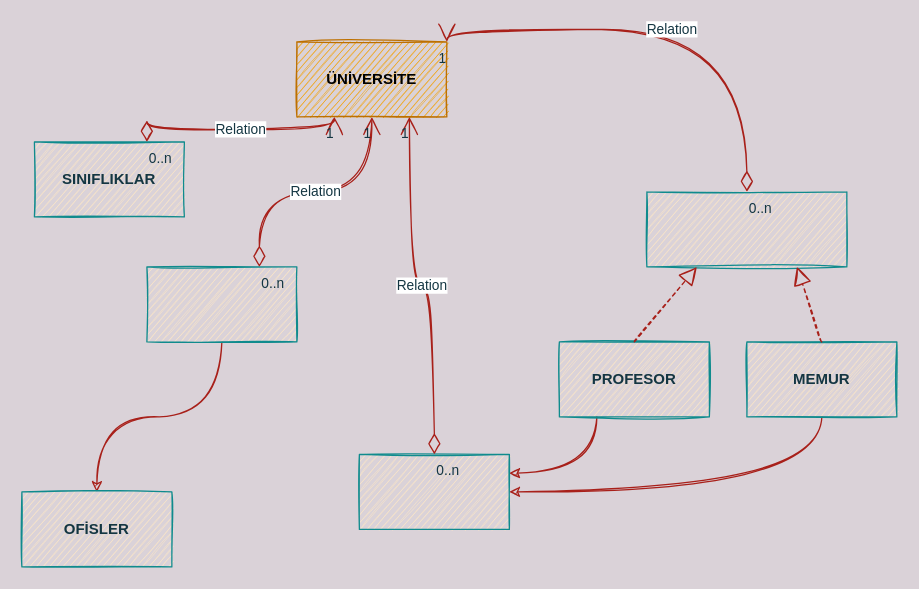
The diagram is 919 pixels wide and 589 high, and some of its shapes have lost their labels. The centre of each missing label's shape, as x and y in pixels:
"DEPARTMANLAR" goes at point 221,304.
"«interface» ÇALIŞANLAR" goes at point 746,229.
"ÇALIŞMA OFİSLERİ" goes at point 433,491.
